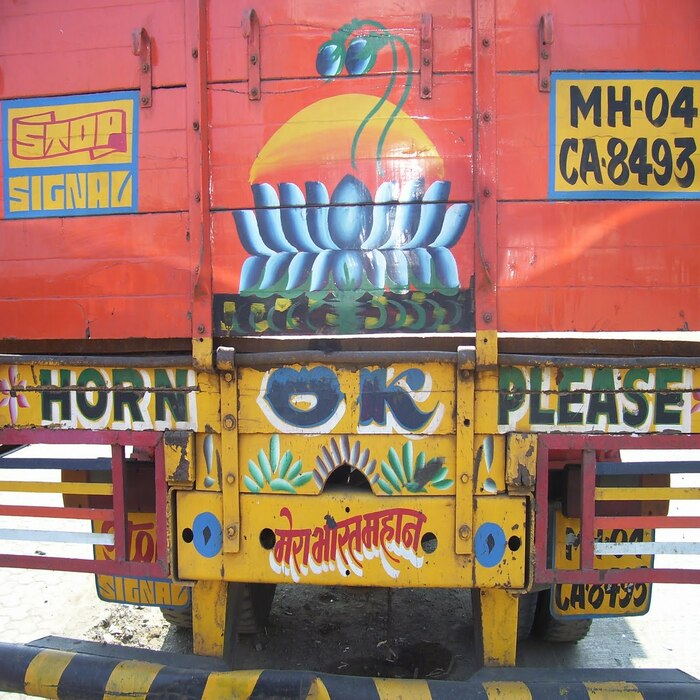n: (547, 65, 700, 196)
